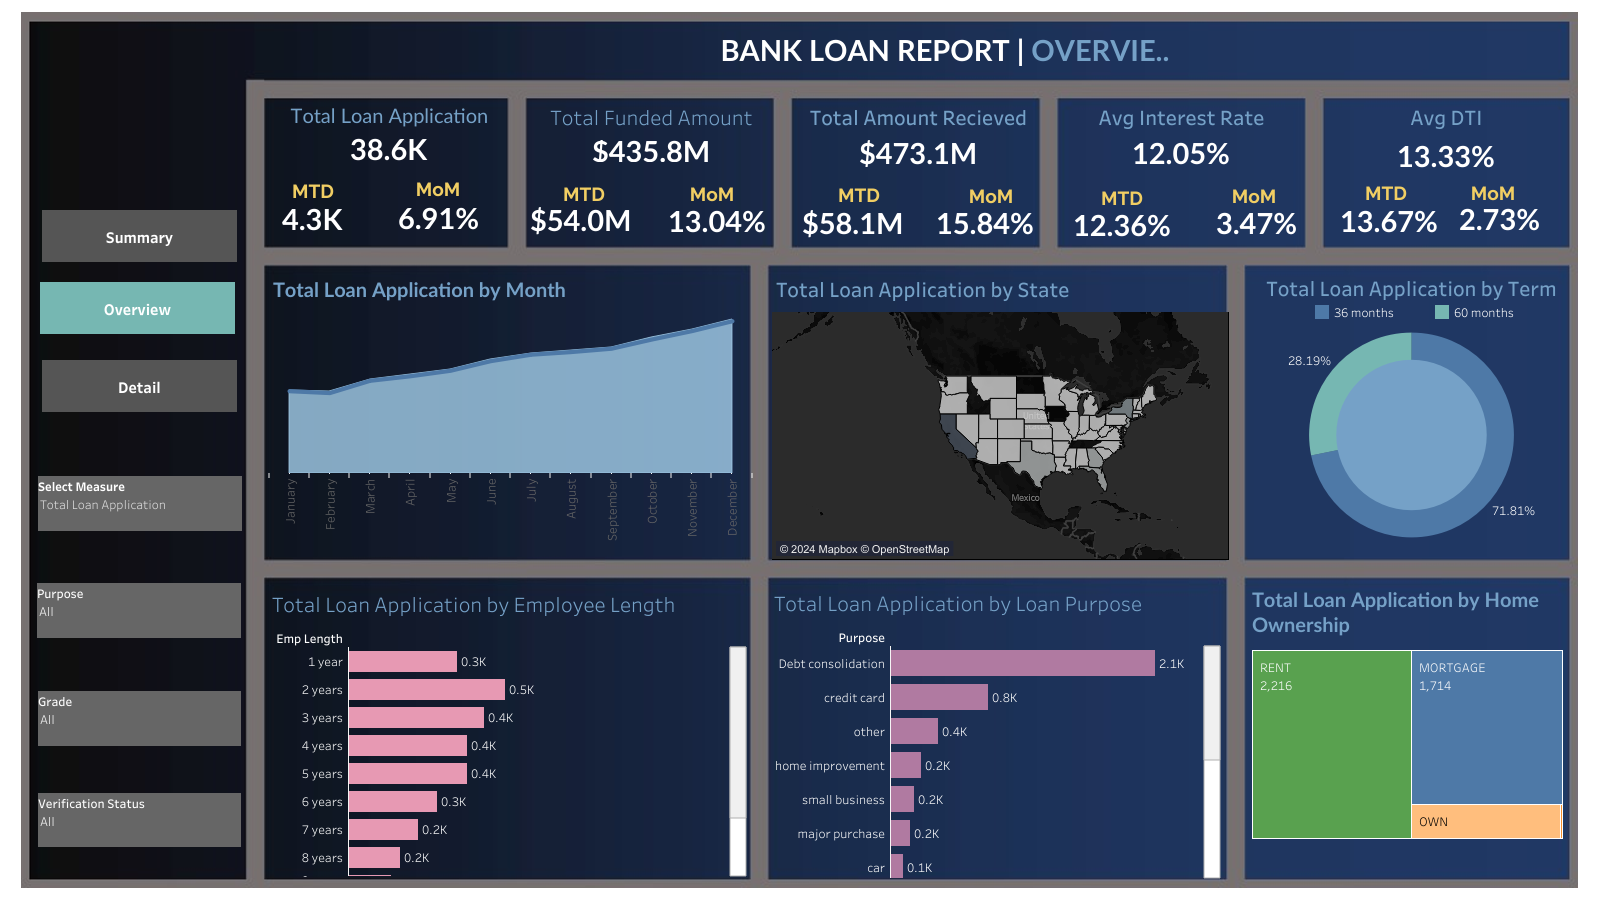

What the dashboard file says about the page in this screenshot:
{"tool":"tableau","page":{"name":"Overview","canvas":[1600,900],"ordinal":1},"visuals":[{"type":"image","param":"Image/Tableau Background 2.jpg","box":[8,8,1584,884]},{"type":"text","box":[718,32,466,36]},{"type":"image","param":"/var/opt/tableau/tableau_server/data/tabsvc/temp/vizqlserver_0.20243.24.1104.110","box":[73,46,145,146]},{"type":"worksheet","title":"Total Loan Application","mark":"Automatic","box":[267,97,245,64]},{"type":"worksheet","title":"Total Funded Amount","mark":"Automatic","box":[530,97,243,65]},{"type":"worksheet","title":"Total Amount Recieved","mark":"Automatic","box":[797,97,243,70]},{"type":"worksheet","title":"Avg Interest Rate","mark":"Automatic","box":[1059,97,245,69]},{"type":"worksheet","title":"Avg DTI","mark":"Automatic","box":[1325,97,243,76]},{"type":"text","box":[404,174,68,30]},{"type":"text","box":[279,176,68,30]},{"type":"text","box":[1352,178,68,30]},{"type":"text","box":[1459,178,68,30]},{"type":"text","box":[550,179,68,30]},{"type":"text","box":[678,179,68,30]},{"type":"text","box":[825,180,68,30]},{"type":"text","box":[957,181,68,30]},{"type":"text","box":[1220,181,68,30]},{"type":"text","box":[1088,183,68,30]},{"type":"worksheet","title":"MTD Total Amount Recieved","mark":"Automatic","box":[797,189,113,68]},{"type":"worksheet","title":"MoM Total Funded Amount","mark":"Automatic","box":[664,190,107,62]},{"type":"worksheet","title":"MoM Loan Application","mark":"Automatic","box":[389,193,101,50]},{"type":"worksheet","title":"MoM Avg DTI","mark":"Automatic","box":[1449,195,102,49]},{"type":"worksheet","title":"MoM Avg Interest Rate","mark":"Automatic","box":[1189,196,136,54]},{"type":"worksheet","title":"MoM Total Amount Recieved","mark":"Automatic","box":[932,197,106,52]},{"type":"worksheet","title":"MTD Avg DTI","mark":"Automatic","box":[1328,197,122,48]},{"type":"worksheet","title":"MTD Total Funded Amount","mark":"Automatic","box":[513,199,136,42]},{"type":"worksheet","title":"MTD Avg Interest Rate","mark":"Automatic","box":[1060,200,126,50]},{"type":"worksheet","title":"MTD Total Loan Application","mark":"Automatic","box":[263,204,100,31]},{"type":"dashboard-object","box":[42,210,195,52]},{"type":"worksheet","title":"Term","mark":"Pie","rows":["Calculation_15832980601532565","Calculation_15832980601532565"],"box":[1253,268,317,291]},{"type":"worksheet","title":"State","mark":"Multipolygon","box":[772,269,456,290]},{"type":"worksheet","title":"Month","mark":"Automatic","rows":["Calculation_15832980590555276","Calculation_15832980590555276"],"cols":["issue_date"],"box":[269,271,483,282]},{"type":"dashboard-object","box":[40,282,195,52]},{"type":"legend","title":"Term","param":"[federated.0mmfcsv0gbctox1frqz0318h6qjj].[none:term:nk]","box":[1312,302,240,37]},{"type":"dashboard-object","box":[42,360,195,52]},{"type":"parameter","param":"[Parameters].[Parameter 1]","box":[38,476,204,55]},{"type":"worksheet","title":"Home Own","mark":"Automatic","box":[1248,581,318,296]},{"type":"filter","title":"Avg DTI","param":"[federated.0mmfcsv0gbctox1frqz0318h6qjj].[none:purpose:nk]","box":[37,583,204,55]},{"type":"worksheet","title":"Purpose","mark":"Bar","rows":["purpose"],"cols":["Calculation_15832980590555276"],"box":[770,583,451,295]},{"type":"worksheet","title":"Emp Length","mark":"Bar","rows":["emp_length"],"cols":["Calculation_15832980590555276"],"box":[268,584,479,292]},{"type":"legend","title":"Home Own","param":"[federated.0mmfcsv0gbctox1frqz0318h6qjj].[usr:Calculation_15832980590555276:qk]","box":[1133,640,4,20]},{"type":"filter","title":"Avg DTI","param":"[federated.0mmfcsv0gbctox1frqz0318h6qjj].[none:grade:nk]","box":[38,691,203,55]},{"type":"filter","title":"Avg DTI","param":"[federated.0mmfcsv0gbctox1frqz0318h6qjj].[none:verification_status:nk]","box":[38,793,203,54]}]}

Visuals, with their boxes in screenshot pixels (x1, y1, x2, y2), scaled from the page's 1600x900 canvas onto the 1599x899 screenshot:
image: Rect(8, 8, 1591, 891)
text: Rect(718, 32, 1183, 68)
image: Rect(73, 46, 218, 192)
"Total Loan Application" worksheet: Rect(267, 97, 512, 161)
"Total Funded Amount" worksheet: Rect(530, 97, 773, 162)
"Total Amount Recieved" worksheet: Rect(797, 97, 1039, 167)
"Avg Interest Rate" worksheet: Rect(1058, 97, 1303, 166)
"Avg DTI" worksheet: Rect(1324, 97, 1567, 173)
text: Rect(404, 174, 472, 204)
text: Rect(279, 176, 347, 206)
text: Rect(1351, 178, 1419, 208)
text: Rect(1458, 178, 1526, 208)
text: Rect(550, 179, 618, 209)
text: Rect(678, 179, 746, 209)
text: Rect(824, 180, 892, 210)
text: Rect(956, 181, 1024, 211)
text: Rect(1219, 181, 1287, 211)
text: Rect(1087, 183, 1155, 213)
"MTD Total Amount Recieved" worksheet: Rect(797, 189, 909, 257)
"MoM Total Funded Amount" worksheet: Rect(664, 190, 771, 252)
"MoM Loan Application" worksheet: Rect(389, 193, 490, 243)
"MoM Avg DTI" worksheet: Rect(1448, 195, 1550, 244)
"MoM Avg Interest Rate" worksheet: Rect(1188, 196, 1324, 250)
"MoM Total Amount Recieved" worksheet: Rect(931, 197, 1037, 249)
"MTD Avg DTI" worksheet: Rect(1327, 197, 1449, 245)
"MTD Total Funded Amount" worksheet: Rect(513, 199, 649, 241)
"MTD Avg Interest Rate" worksheet: Rect(1059, 200, 1185, 250)
"MTD Total Loan Application" worksheet: Rect(263, 204, 363, 235)
dashboard-object: Rect(42, 210, 237, 262)
"Term" worksheet (Pie marks): Rect(1252, 268, 1569, 558)
"State" worksheet (Multipolygon marks): Rect(772, 269, 1227, 558)
"Month" worksheet: Rect(269, 271, 752, 552)
dashboard-object: Rect(40, 282, 235, 334)
"Term" legend: Rect(1311, 302, 1551, 339)
dashboard-object: Rect(42, 360, 237, 412)
parameter: Rect(38, 475, 242, 530)
"Home Own" worksheet: Rect(1247, 580, 1565, 876)
"Avg DTI" filter: Rect(37, 582, 241, 637)
"Purpose" worksheet (Bar marks): Rect(770, 582, 1220, 877)
"Emp Length" worksheet (Bar marks): Rect(268, 583, 747, 875)
"Home Own" legend: Rect(1132, 639, 1136, 659)
"Avg DTI" filter: Rect(38, 690, 241, 745)
"Avg DTI" filter: Rect(38, 792, 241, 846)
